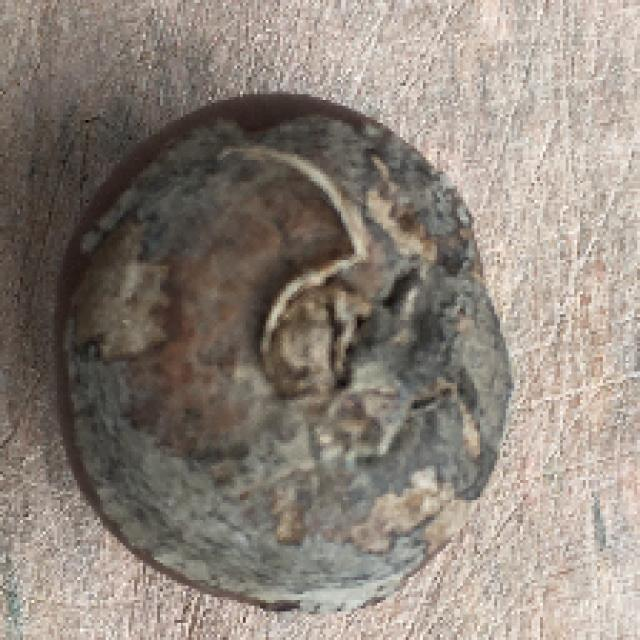damagedHazelnut: (48, 84, 514, 620)
